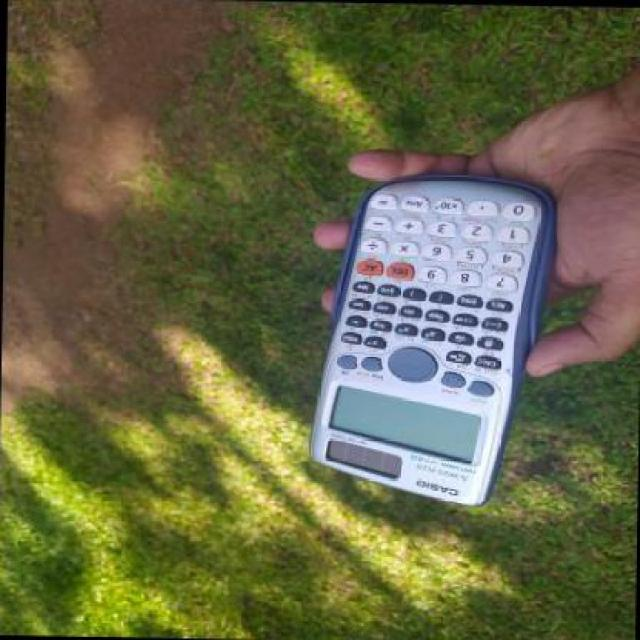Calculator: (300, 155, 557, 512)
